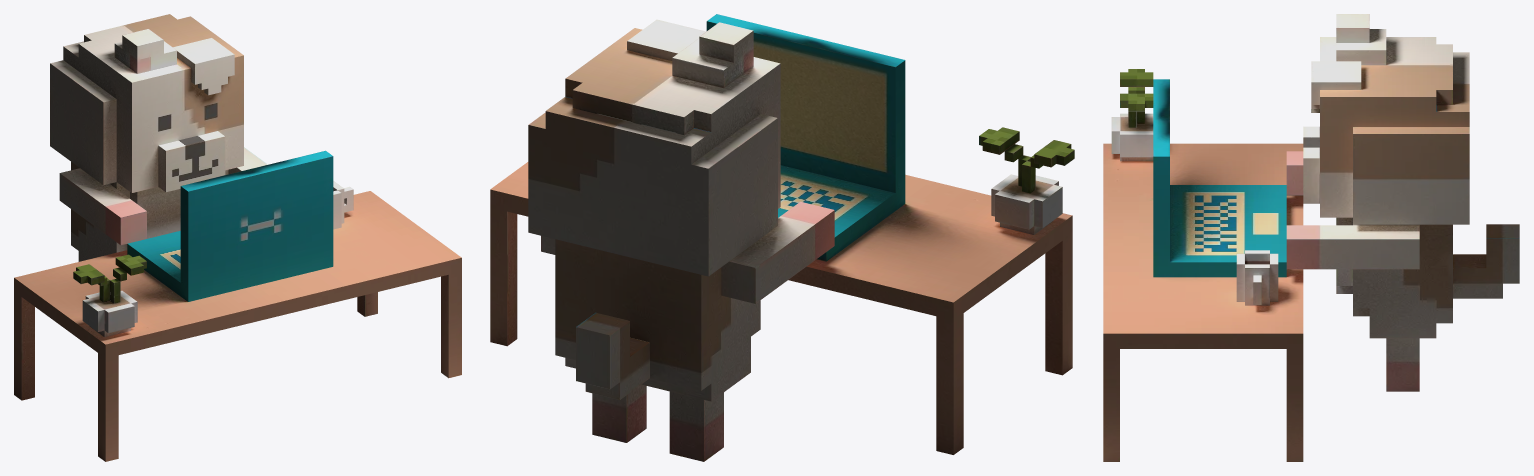
File: sean-dog.glb
3 renders of one model, left to right at view 1: azimuth 30°, elevation 25°; view 2: azimuth 150°, elevation 25°; view 3: azimuth 270°, elevation 25°, orthographic. The views are drawn at different scales.
Visible parts, largest first — view 1: main; view 2: main; view 3: main.
Boxes of the visible parts, x1,y1,x2,y2 form: main: (14, 14, 461, 461); main: (490, 14, 1074, 461); main: (1103, 14, 1519, 461).
Size of what is drawn, in the model's own units: 5.6 by 4.4 by 5.
Materials: 1 (1 with a texture image).
